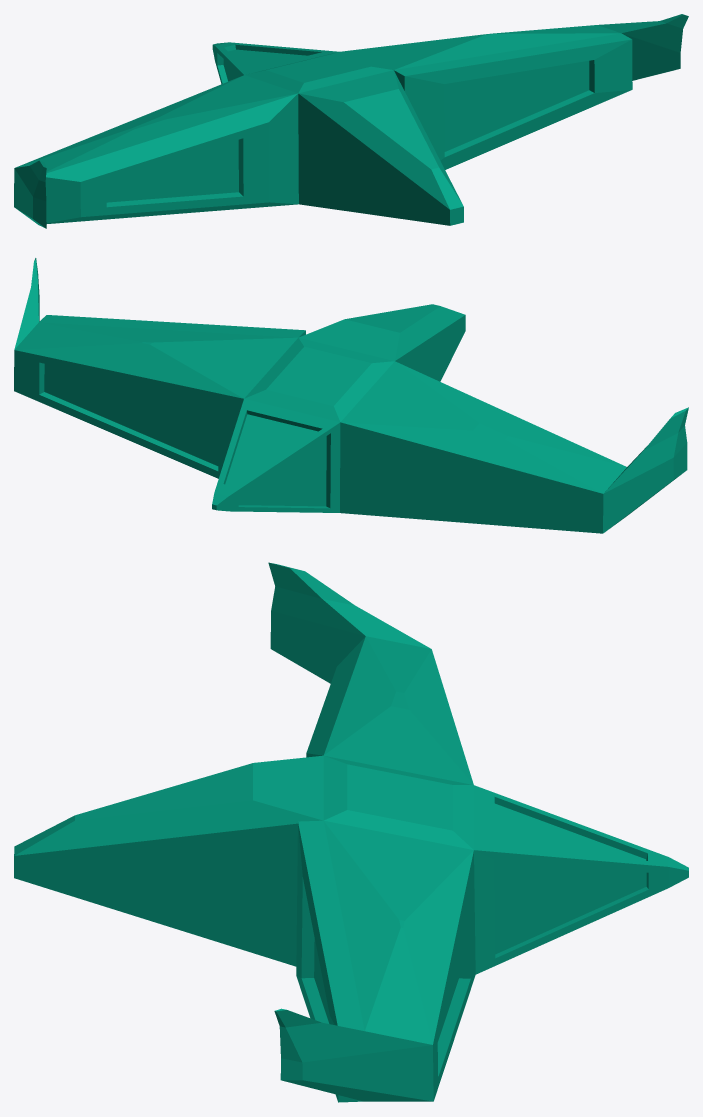
File: spaceship.fbx
3 views of the same model, one above another, from view 1: azimuth 30°, elevation 25°; view 2: azimuth 150°, elevation 25°; view 3: azimuth 270°, elevation 25° (orthographic). The views are drawn at different scales.
Parts seen in each view (by area): view 1: Cube; view 2: Cube; view 3: Cube.
Part boxes in pixels (<box>): Cube: <box>14,14,688,228</box>; Cube: <box>14,258,688,533</box>; Cube: <box>14,562,688,1102</box>.
Size of the model in its own units: 849 by 149 by 552.
